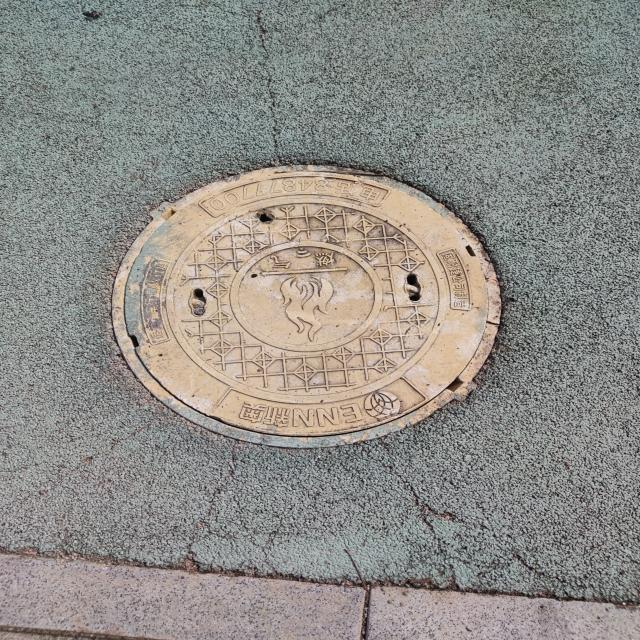Good: (108, 156, 520, 454)
